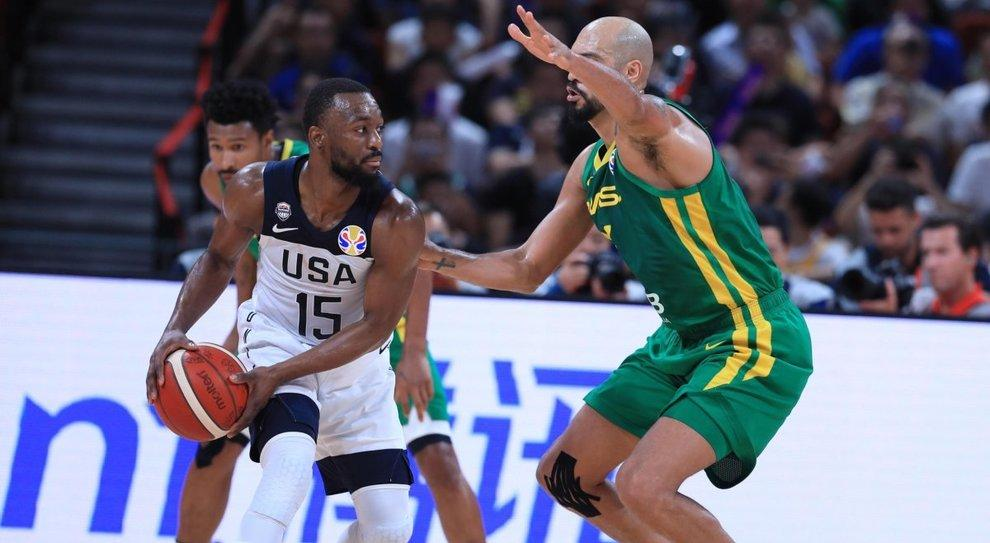basketball: (152, 339, 253, 445)
